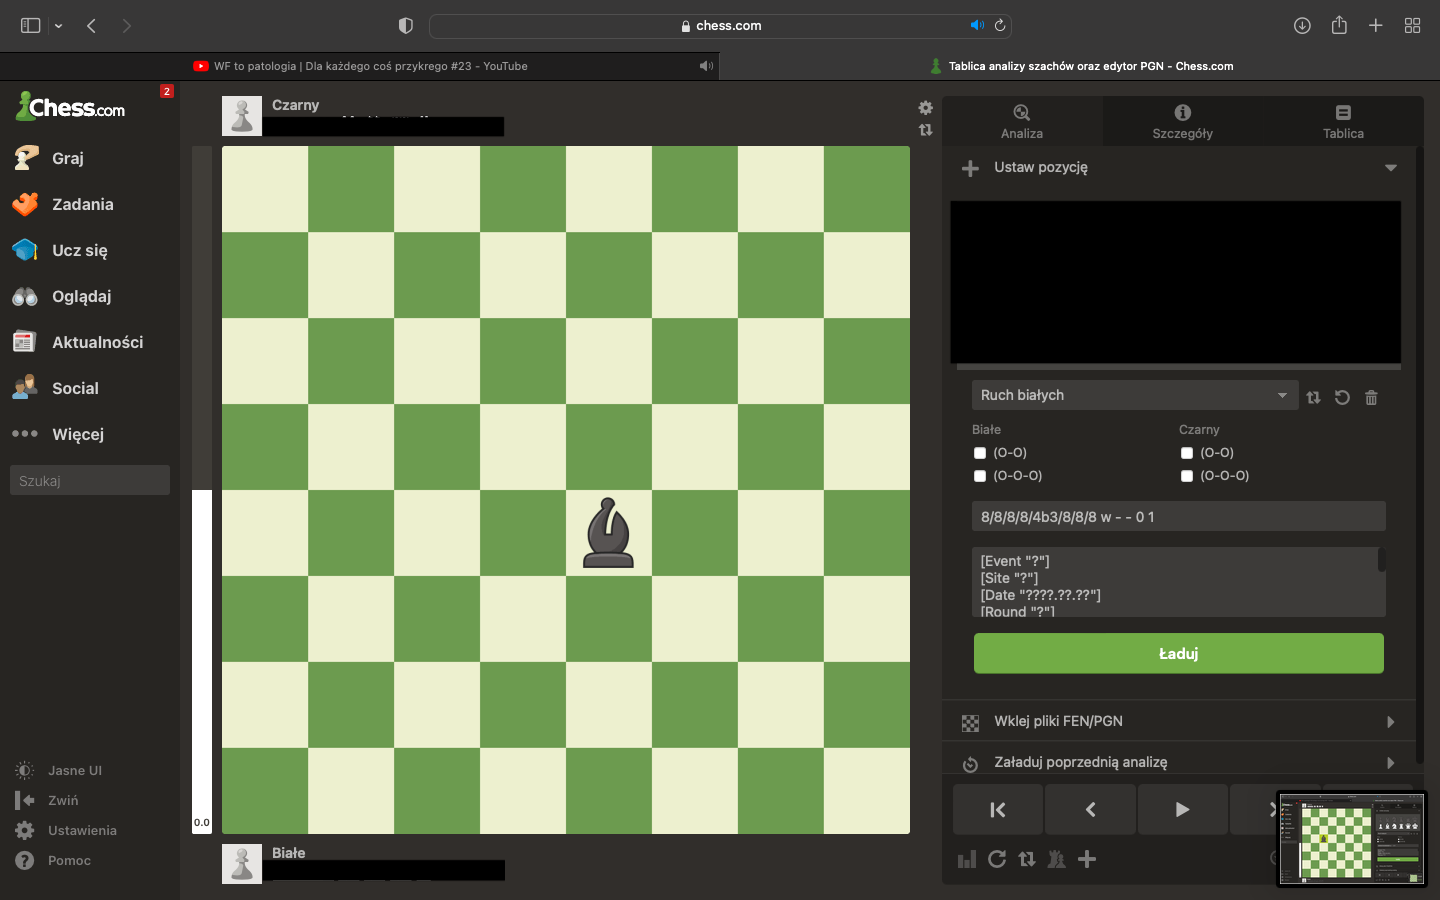black_bishop: (582, 497, 636, 570)
